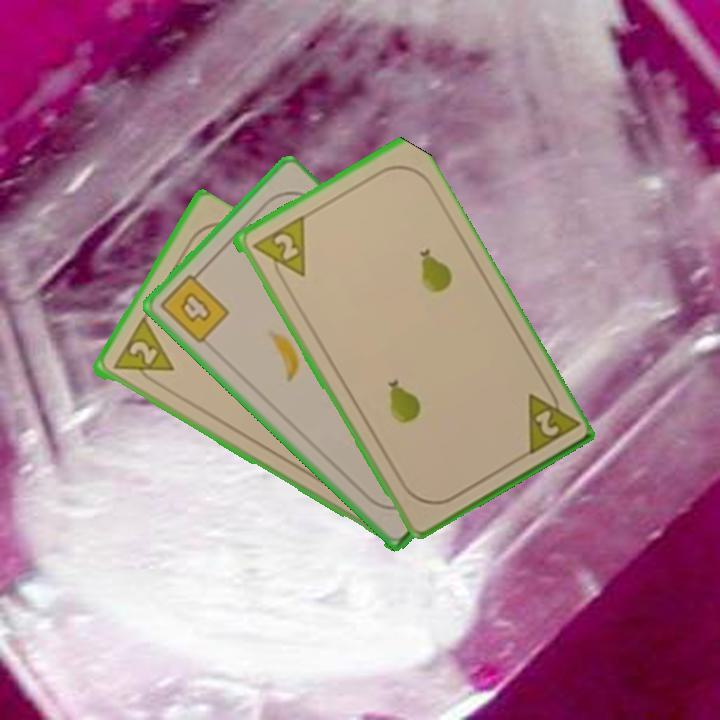2p: (107, 316, 176, 389), (246, 213, 309, 288), (530, 405, 562, 440)
4b: (156, 264, 232, 347)
